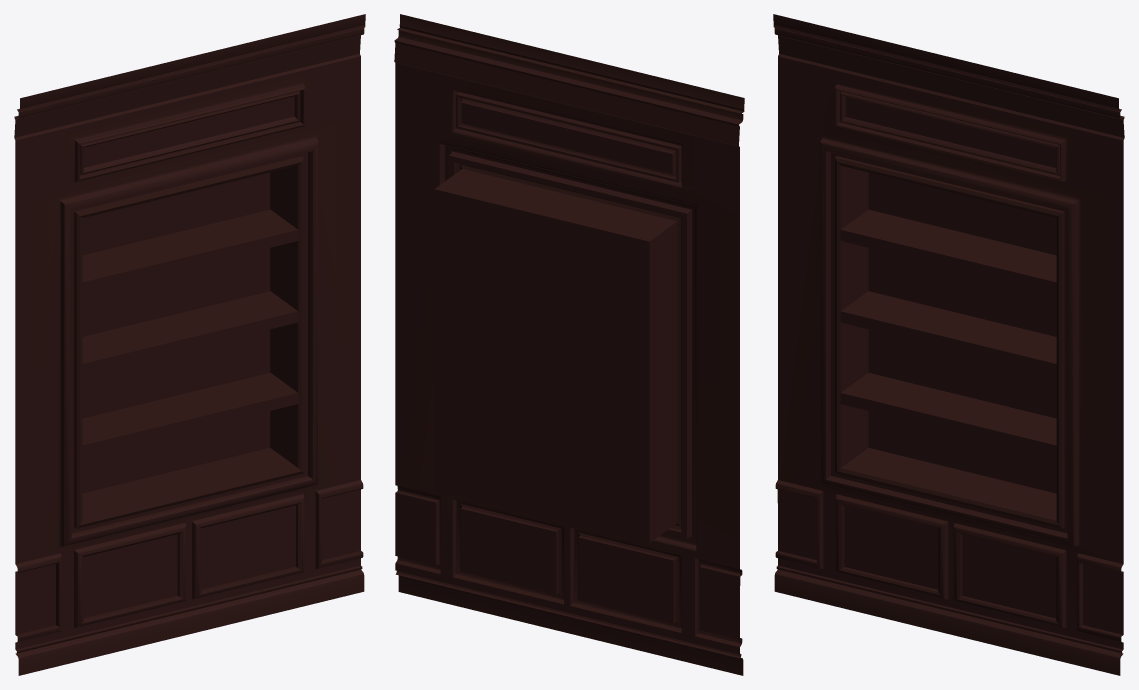
Rendered from wall_bookshelf.fbx.
3 views of the same model, side by side, from view 1: azimuth 30°, elevation 25°; view 2: azimuth 150°, elevation 25°; view 3: azimuth 330°, elevation 25° (orthographic).
Parts seen in each view (by area): view 1: Plane.017, Cube.006; view 2: Plane.017; view 3: Plane.017, Cube.006.
Part boxes in pixels (x1,y1,x2,y2): Plane.017: [14, 14, 365, 675]; Cube.006: [82, 209, 298, 456]; Plane.017: [394, 14, 744, 675]; Plane.017: [773, 14, 1124, 675]; Cube.006: [840, 209, 1056, 456].
Bounding box in the file's own units: 200 × 320 × 30.46.
